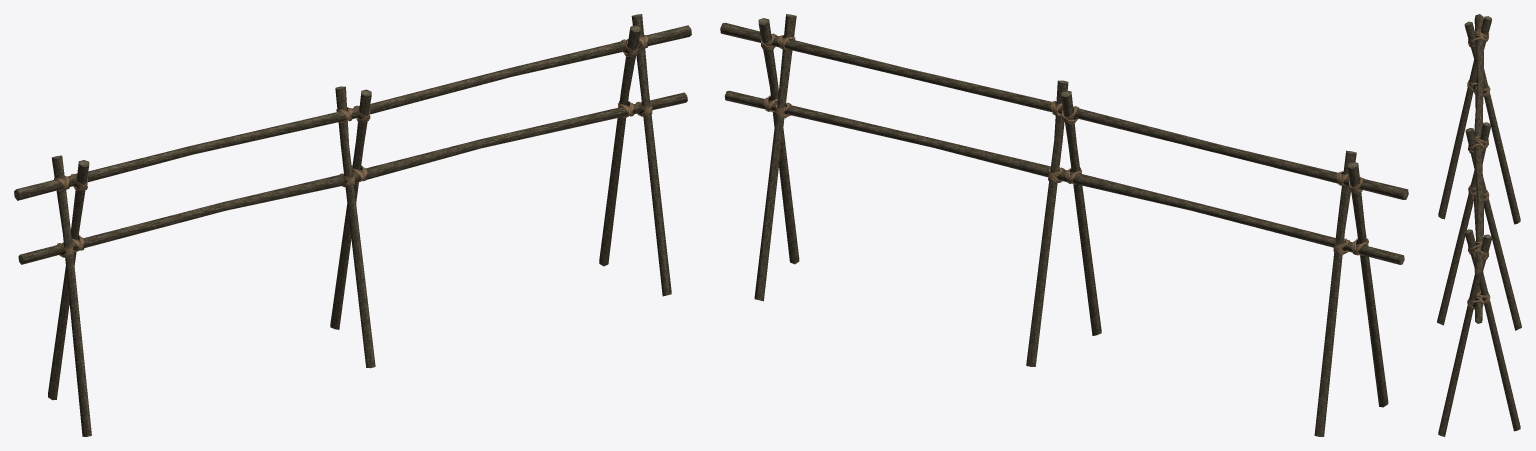
Rendered from thm_dant_fence_8m_l0.fbx.
3 renders of one model, left to right at view 1: azimuth 30°, elevation 25°; view 2: azimuth 150°, elevation 25°; view 3: azimuth 270°, elevation 25°, orthographic. The views are drawn at different scales.
Parts seen in each view (by area): view 1: mesh_node; view 2: mesh_node; view 3: mesh_node.
Boxes of the visible parts, bbox=[...] form: mesh_node: bbox=[14, 14, 691, 436]; mesh_node: bbox=[720, 14, 1408, 436]; mesh_node: bbox=[1437, 14, 1521, 436].
Bounding box in the file's own units: 7.96 × 2.95 × 1.13.
